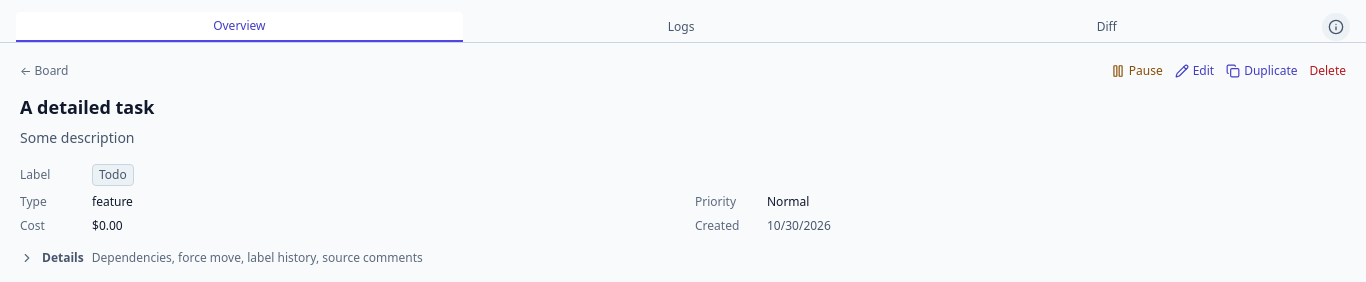
TaskDetailPage tab switching › clicking the Diff tab mounts DiffReviewPane
Expected: the heading "A detailed task" is shown, 20,95 -> 154,119
Click the button "Diff" at (1107, 27), box 900,13 -> 1314,41
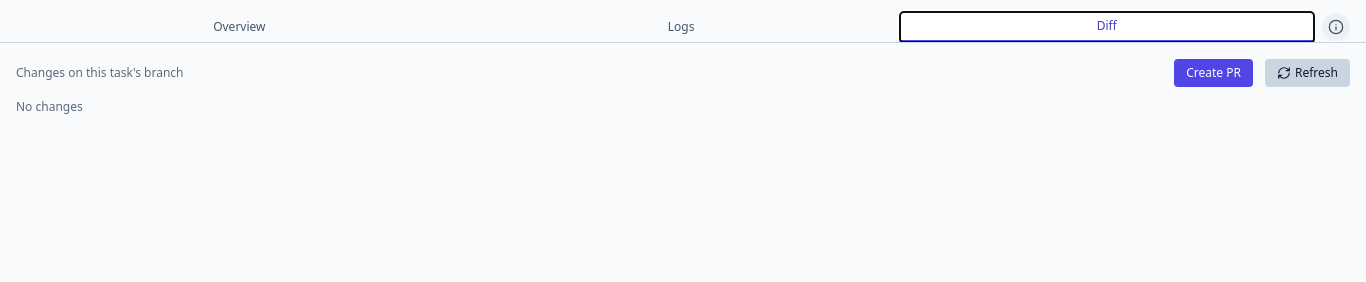
Result: the element with test id "diff-review-pane" is shown at 0,43 -> 1365,131
